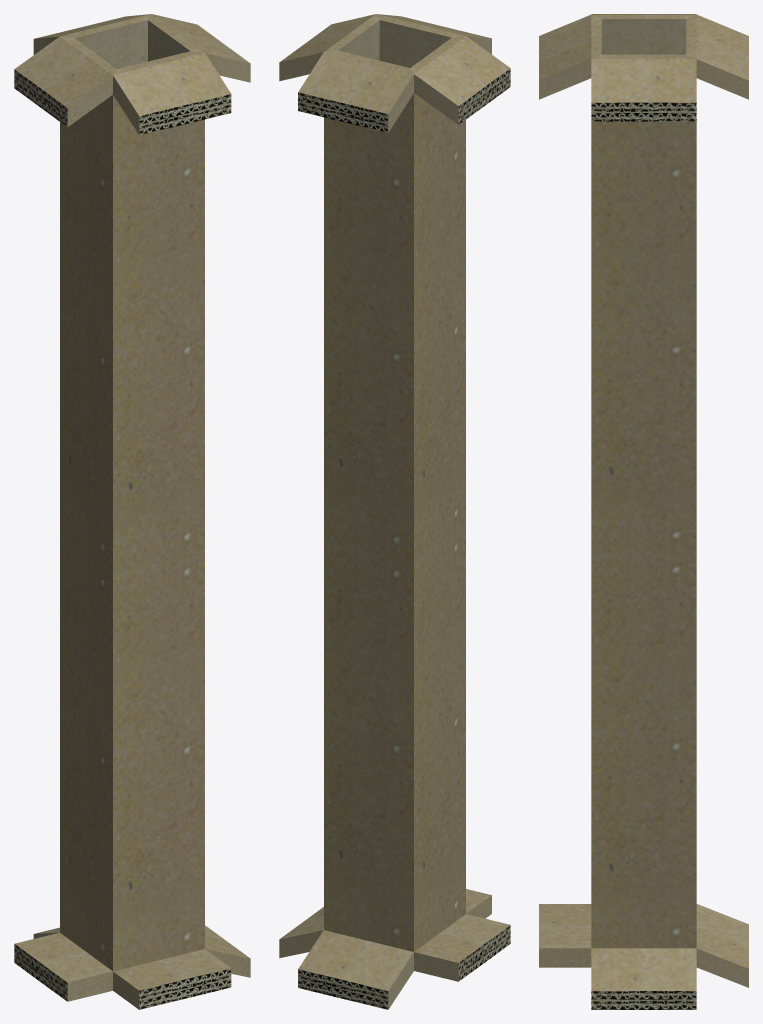
Rendered from pillar_dannbo.FBX.
3 views of the same model, side by side, from view 1: azimuth 30°, elevation 25°; view 2: azimuth 150°, elevation 25°; view 3: azimuth 270°, elevation 25° (orthographic). The views are drawn at different scales.
Visible parts, largest first — view 1: pillar_dannbo; view 2: pillar_dannbo; view 3: pillar_dannbo.
Part boxes in pixels (box(x1,y1,x2,y2)): pillar_dannbo: box(14, 14, 250, 1009); pillar_dannbo: box(279, 14, 510, 1009); pillar_dannbo: box(539, 14, 748, 1009).
Bounding box in the file's own units: 19.88 × 97.14 × 19.88.
